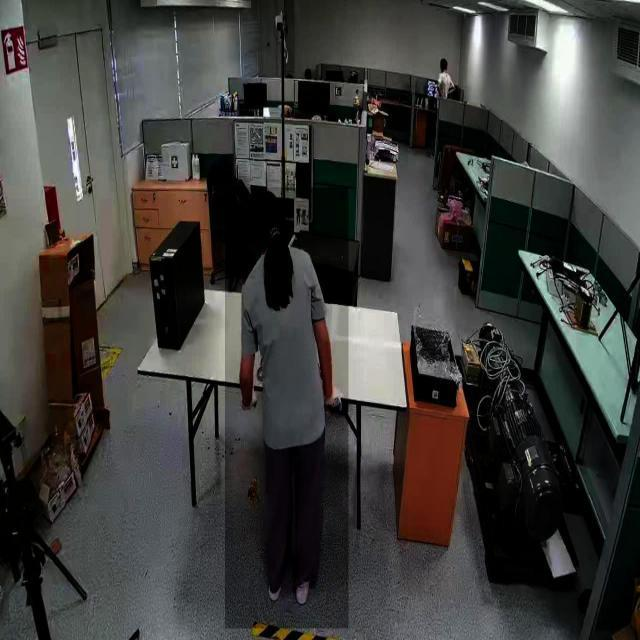boots: (266, 550, 286, 606), (294, 558, 312, 606)
